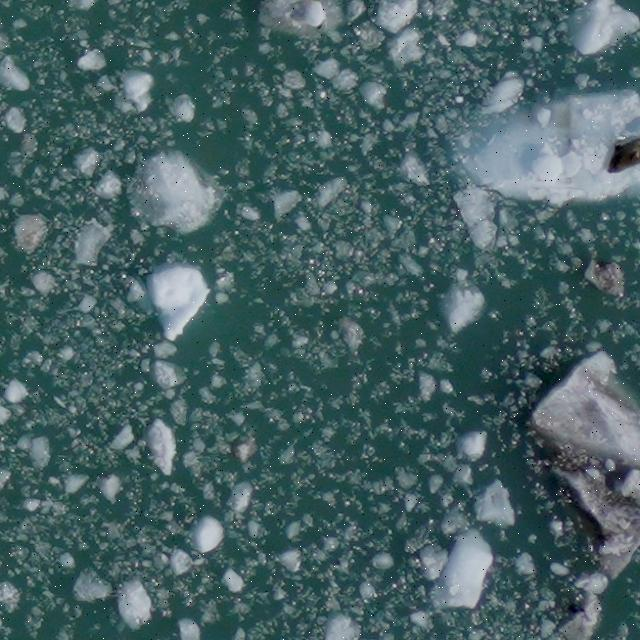seal: (604, 132, 640, 179)
